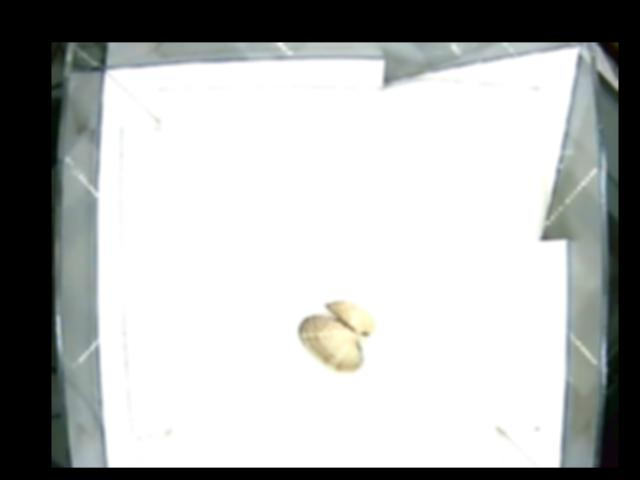Shell: (298, 302, 374, 371)
